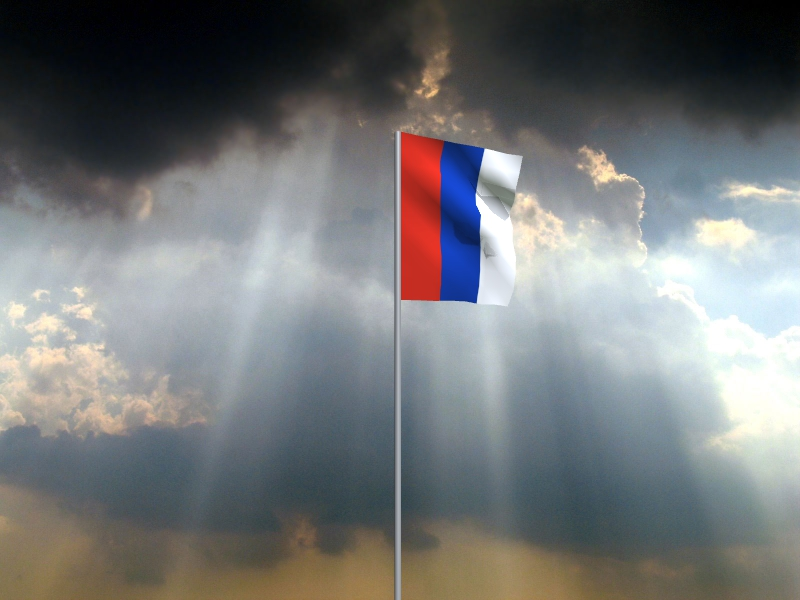ru: (401, 133, 524, 308)
